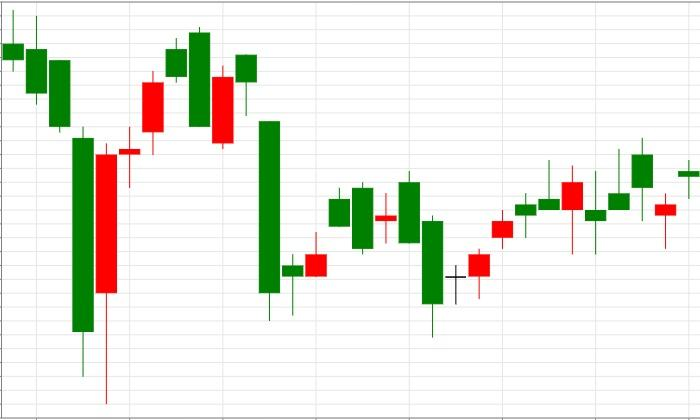bearish_engulfing_fall: (281, 170, 421, 316)
